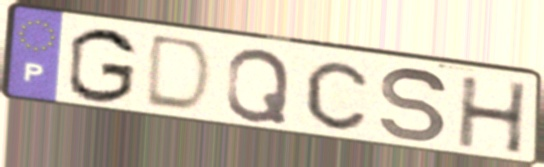C: (302, 59, 371, 133)
D: (140, 32, 217, 117)
G: (65, 25, 140, 106)
H: (456, 74, 530, 157)
Q: (222, 46, 293, 126)
S: (377, 65, 450, 146)
